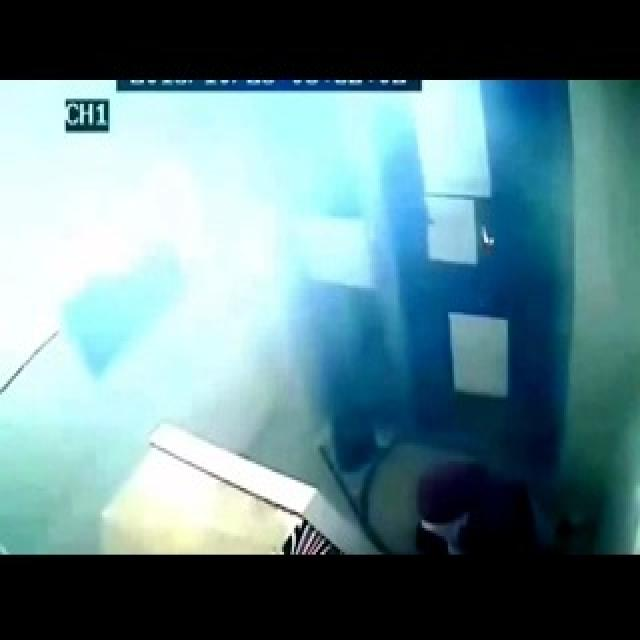thief: (400, 461, 537, 556)
